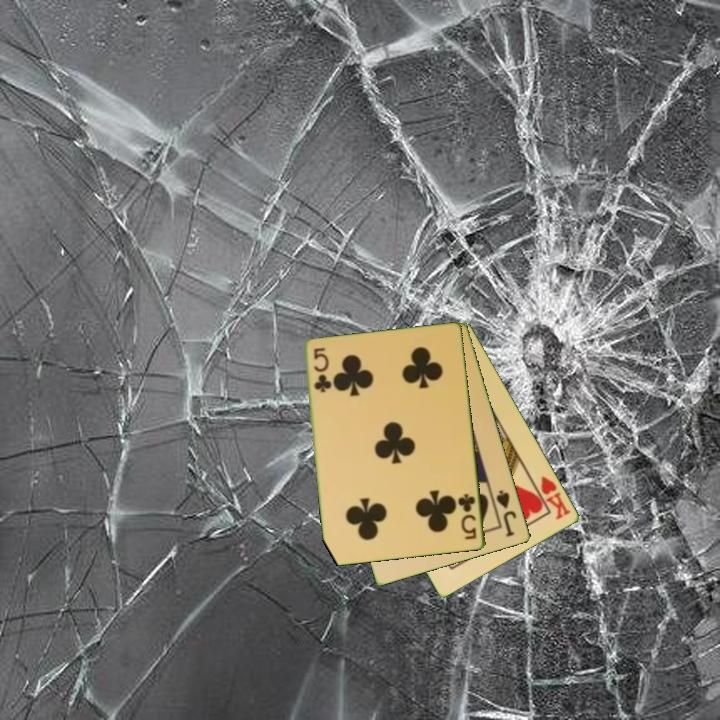5c: (455, 490, 480, 543), (311, 345, 332, 395)
Js: (493, 487, 520, 540)
Kh: (529, 472, 574, 523)
